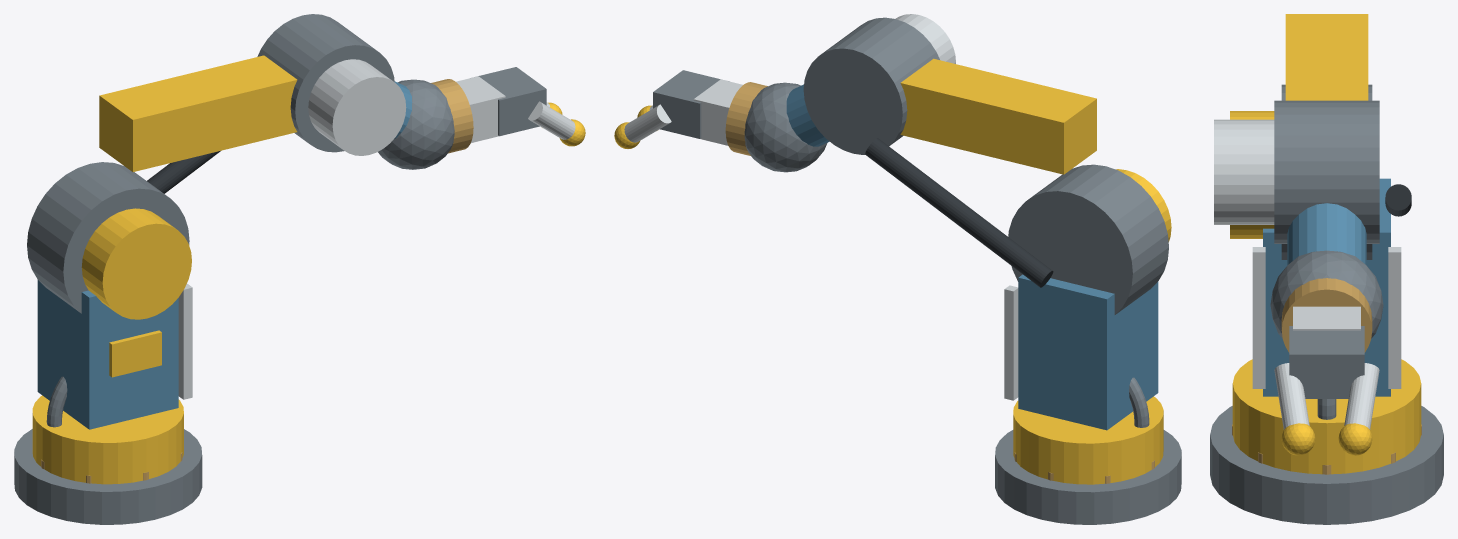
Rendered from RobotArm_02.glb.
3 views of the same model, side by side, from view 1: azimuth 30°, elevation 25°; view 2: azimuth 150°, elevation 25°; view 3: azimuth 270°, elevation 25° (orthographic). The views are drawn at different scales.
Visible parts, largest first — view 1: upper_arm.001, pedestal.001, shoulder_joint.001, shoulder_cap.001, base_turntable.001, base_foot.001, elbow_cap.001, elbow_joint.001, wrist_joint.001, gripper_palm.001, safety_label.001, tool_flange.001 (+5 smaller); view 2: pedestal.001, shoulder_joint.001, upper_arm.001, elbow_joint.001, base_turntable.001, base_foot.001, cable_conduit.001, wrist_joint.001, gripper_palm.001, tool_flange.001, pedestal_rib_-0.001, wrist_ring.001 (+5 smaller); view 3: base_foot.001, elbow_joint.001, base_turntable.001, upper_arm.001, elbow_cap.001, pedestal.001, gripper_palm.001, wrist_joint.001, forearm_link.001, wrist_ring.001, pedestal_rib_0.001, pedestal_rib_-0.001 (+9 smaller).
Boxes of the visible parts, left/top/right/bottom form: upper_arm.001: left=99, top=55, right=297, bottom=171; pedestal.001: left=37, top=280, right=178, bottom=429; shoulder_joint.001: left=27, top=162, right=189, bottom=313; shoulder_cap.001: left=81, top=208, right=191, bottom=319; base_turntable.001: left=32, top=395, right=183, bottom=484; base_foot.001: left=14, top=429, right=202, bottom=524; elbow_cap.001: left=308, top=59, right=406, bottom=155; elbow_joint.001: left=257, top=14, right=394, bottom=152; wrist_joint.001: left=378, top=79, right=454, bottom=169; gripper_palm.001: left=478, top=67, right=546, bottom=136; safety_label.001: left=109, top=330, right=161, bottom=377; tool_flange.001: left=456, top=76, right=505, bottom=142; pedestal.001: left=1018, top=274, right=1158, bottom=430; shoulder_joint.001: left=1008, top=164, right=1168, bottom=314; upper_arm.001: left=900, top=58, right=1096, bottom=174; elbow_joint.001: left=803, top=17, right=939, bottom=154; base_turntable.001: left=1013, top=396, right=1163, bottom=484; base_foot.001: left=995, top=430, right=1181, bottom=524; cable_conduit.001: left=865, top=138, right=1053, bottom=287; wrist_joint.001: left=744, top=82, right=827, bottom=172; gripper_palm.001: left=653, top=70, right=729, bottom=138; tool_flange.001: left=693, top=79, right=742, bottom=145; pedestal_rib_-0.001: left=1004, top=285, right=1018, bottom=400; wrist_ring.001: left=725, top=82, right=767, bottom=155; base_foot.001: left=1210, top=406, right=1443, bottom=524; elbow_joint.001: left=1274, top=100, right=1379, bottom=243; base_turntable.001: left=1232, top=359, right=1421, bottom=474; upper_arm.001: left=1285, top=14, right=1368, bottom=100; elbow_cap.001: left=1214, top=119, right=1274, bottom=224; pedestal.001: left=1263, top=178, right=1390, bottom=396; gripper_palm.001: left=1289, top=326, right=1364, bottom=398; wrist_joint.001: left=1270, top=250, right=1383, bottom=338; forearm_link.001: left=1287, top=203, right=1366, bottom=264; wrist_ring.001: left=1281, top=278, right=1372, bottom=352; pedestal_rib_0.001: left=1252, top=247, right=1265, bottom=388; pedestal_rib_-0.001: left=1388, top=247, right=1401, bottom=388.
Size of the model in its own units: 2.08 by 1.46 by 0.62.
